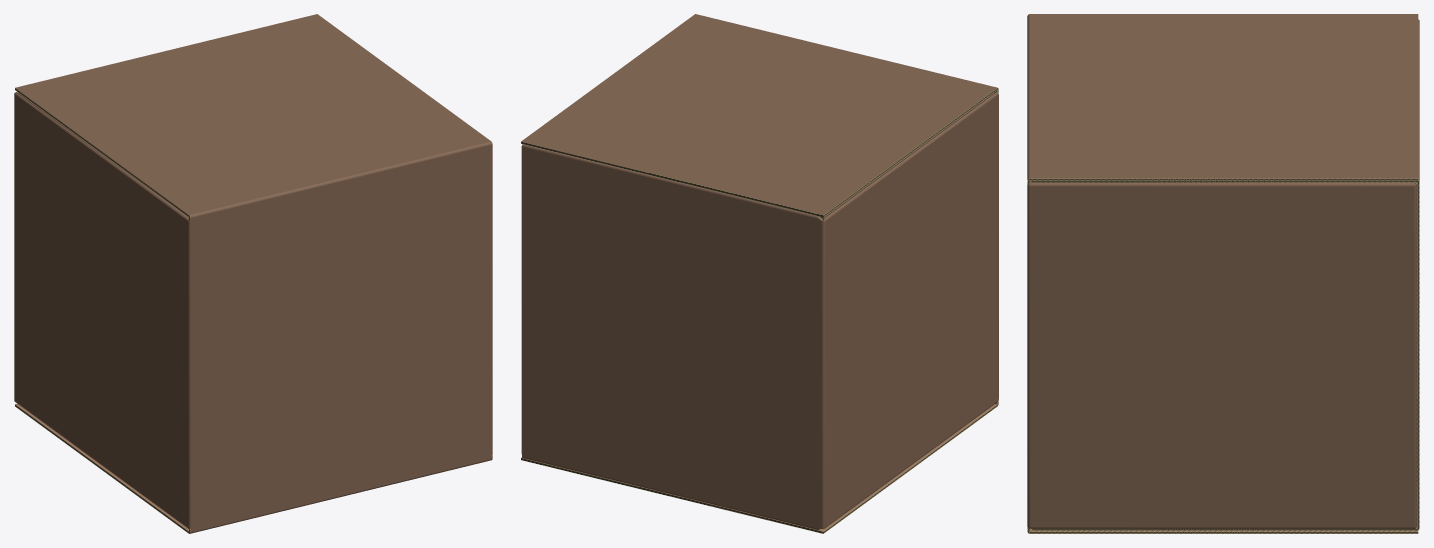
File: 3DROTULO.gltf
The picture shows the model from 3 angles, left to right: view 1: azimuth 30°, elevation 25°; view 2: azimuth 150°, elevation 25°; view 3: azimuth 270°, elevation 25°; orthographic projection. The views are drawn at different scales.
Visible parts, largest first — view 1: TQ_ARD-node; view 2: TQ_ARD-node; view 3: TQ_ARD-node.
Boxes of the visible parts, x1=… form: TQ_ARD-node: x1=14, y1=14, x2=492, y2=533; TQ_ARD-node: x1=521, y1=14, x2=998, y2=533; TQ_ARD-node: x1=1027, y1=14, x2=1419, y2=533.
Bounding box in the file's own units: 0.2216 × 0.2216 × 0.2216.
3 materials, 1 textured.
